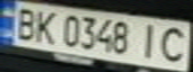0: (57, 11, 81, 48)
3: (78, 15, 96, 51)
4: (93, 16, 115, 53)
8: (112, 18, 136, 56)
B: (9, 4, 42, 42)
C: (154, 24, 193, 64)
I: (133, 20, 163, 60)
K: (30, 8, 60, 45)
